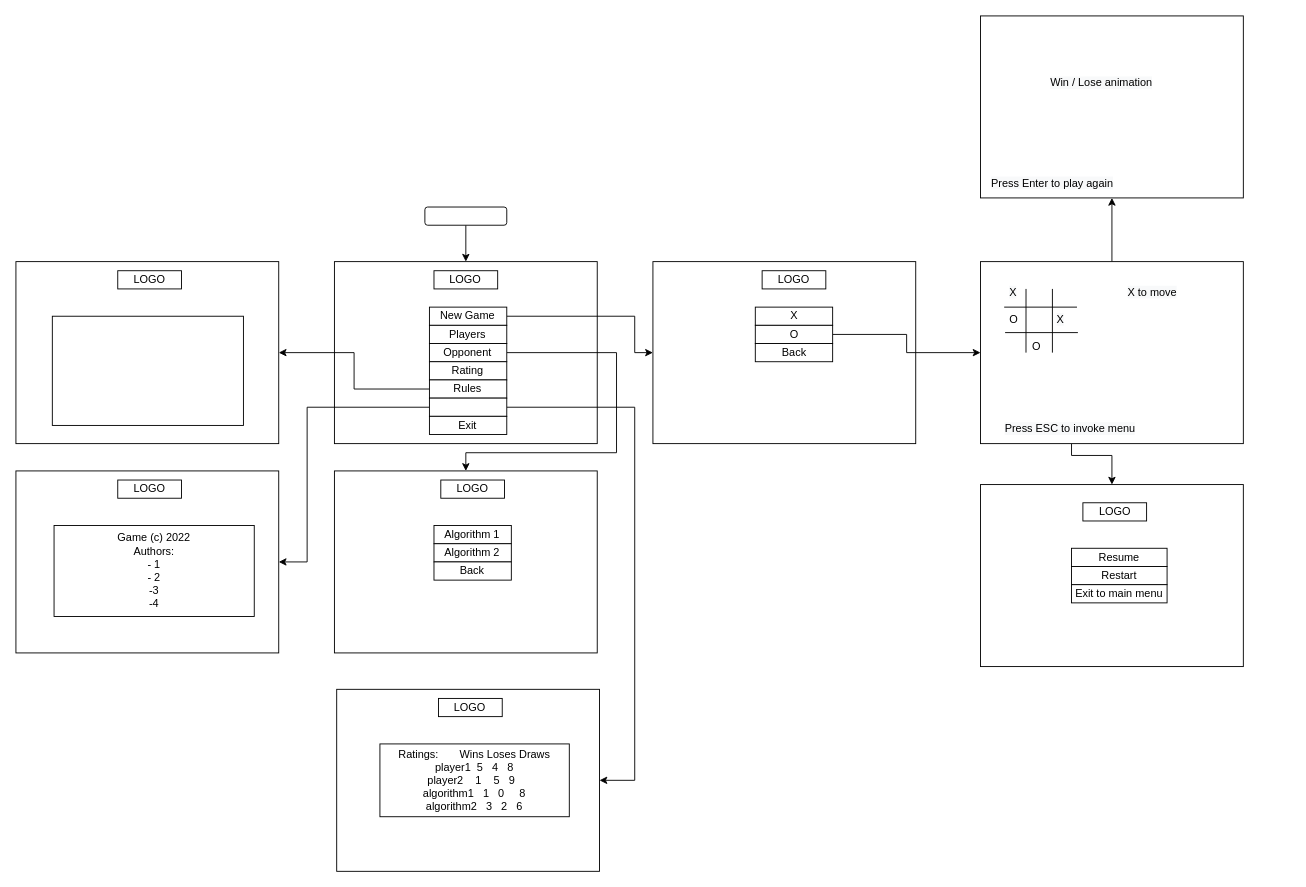
The diagram is 1306 pixels wide and 887 high, and some of its shapes have lost their labels. The centre of each missing label's shape, as x and y in pixels:
About: [468,406]
Rules: Long text about rules: [147,370]
Start: [465,215]
